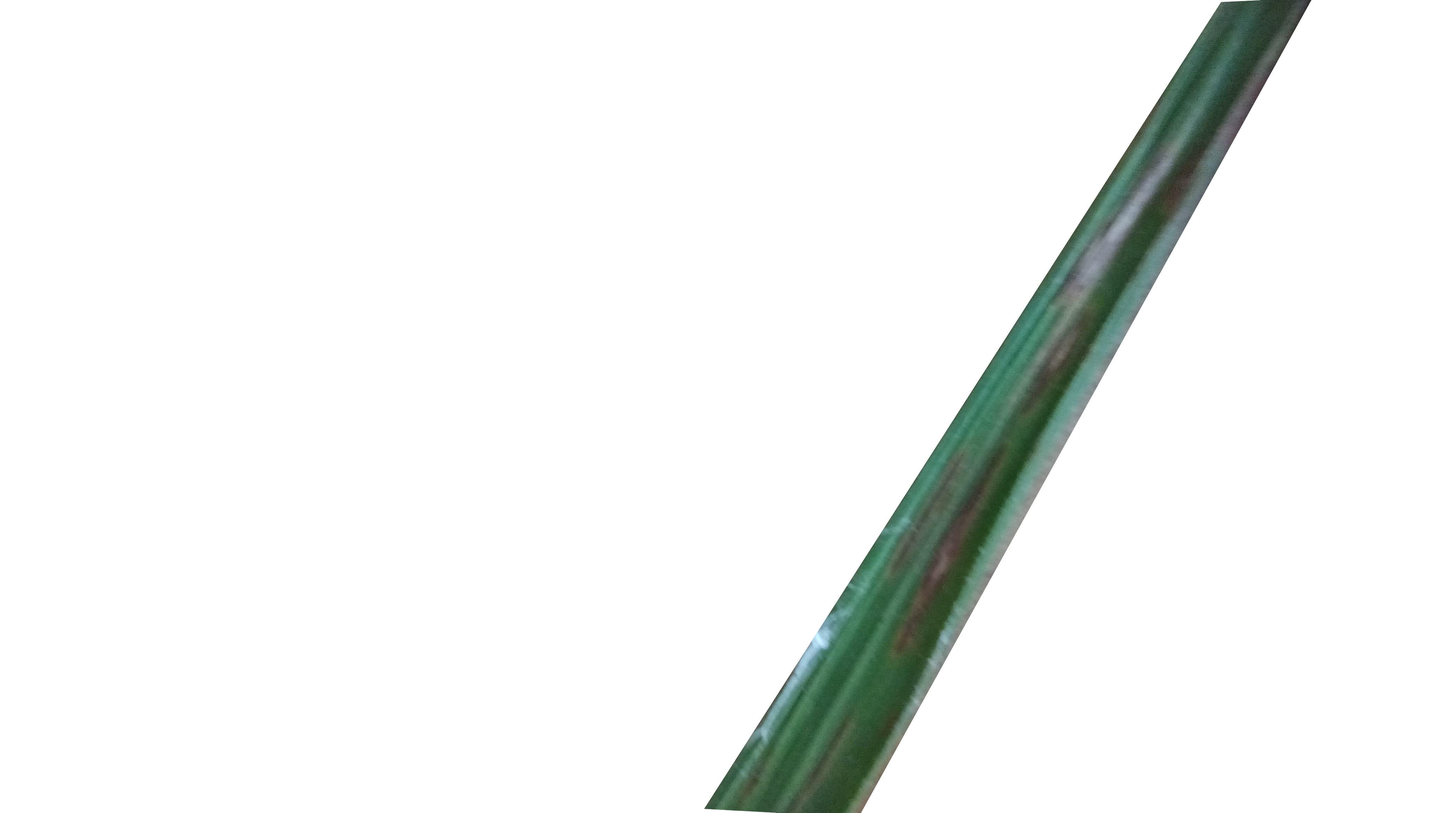Blight: (853, 56, 1274, 672)
